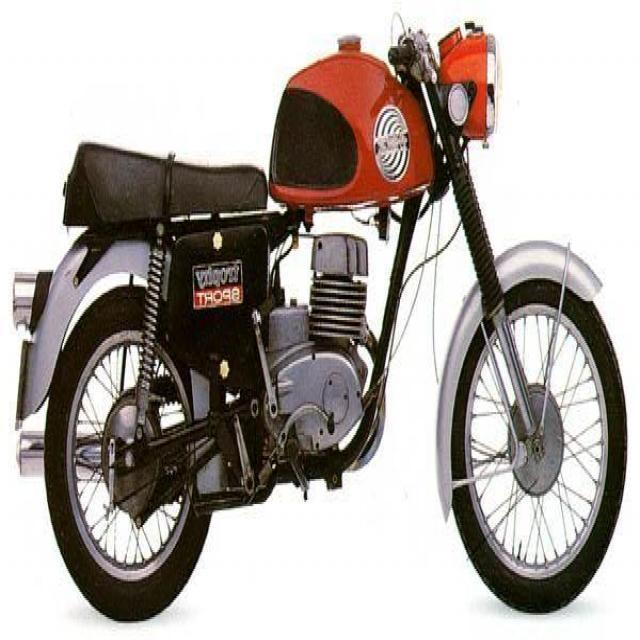Motorcycle: (15, 22, 629, 622)
